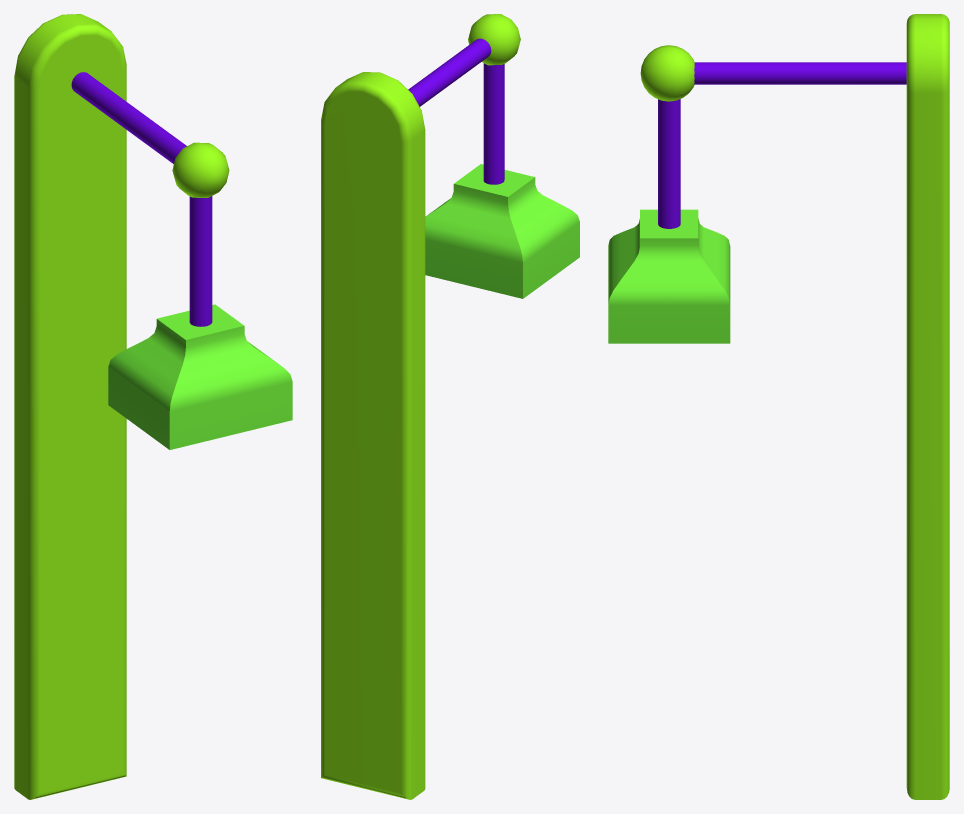
The model's file is Obstacle3.fbx.
3 renders of one model, left to right at view 1: azimuth 30°, elevation 25°; view 2: azimuth 150°, elevation 25°; view 3: azimuth 270°, elevation 25°, orthographic. The views are drawn at different scales.
Visible parts, largest first — view 1: Body, Shot; view 2: Body, Shot; view 3: Body, Shot.
Part boxes in pixels (x1,y1,x2,y2): Body: (14,14,126,799); Shot: (71,72,292,449); Body: (321,72,425,799); Shot: (408,14,579,298); Body: (906,14,949,799); Shot: (608,45,906,343).
Bounding box in the file's own units: 109 × 648 × 265.
